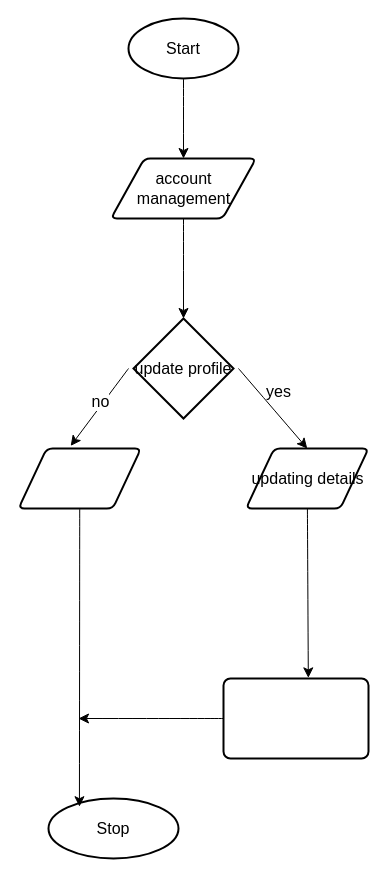
This 386x876 diagram has some shape labels left out. The shapes that lost their labels are listed below. From the top down, each one's centre as x and y in pixels, then its label:
At (x=79, y=478): "up to date".
At (x=295, y=718): "checking detiles".
